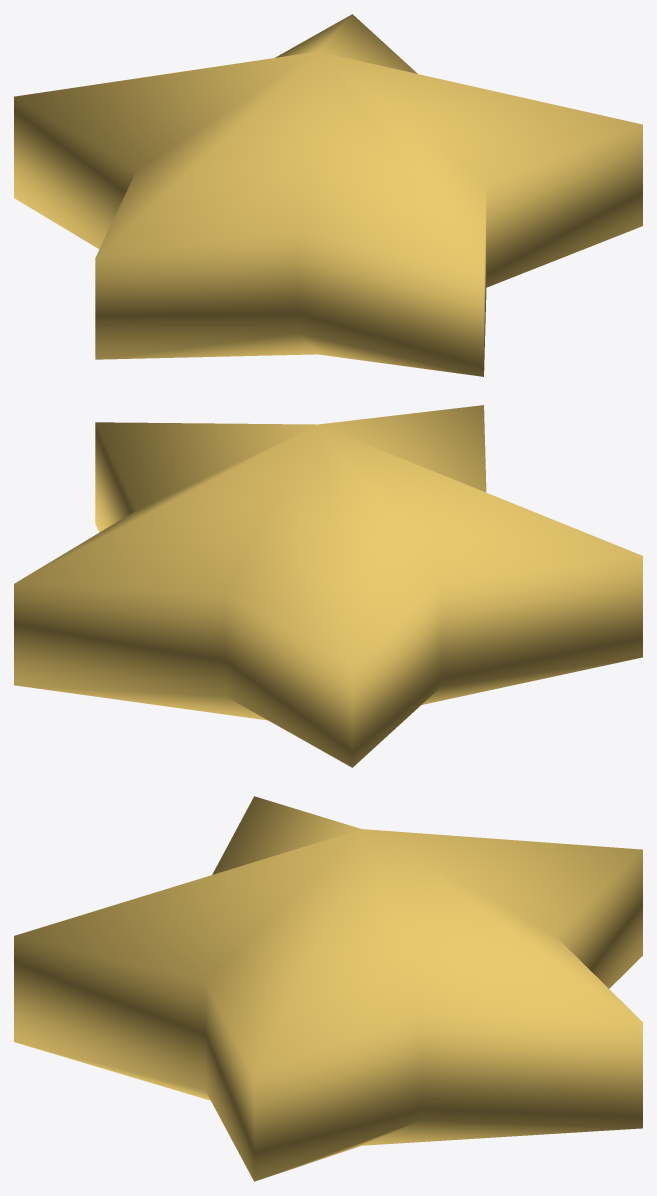
The model's file is star.glb.
3 views of the same model, one above another, from view 1: azimuth 30°, elevation 25°; view 2: azimuth 150°, elevation 25°; view 3: azimuth 270°, elevation 25° (orthographic). The views are drawn at different scales.
Parts seen in each view (by area): view 1: Cylinder; view 2: Cylinder; view 3: Cylinder.
Part boxes in pixels (x1=…): Cylinder: x1=14, y1=14, x2=642, y2=376; Cylinder: x1=14, y1=405, x2=642, y2=767; Cylinder: x1=14, y1=796, x2=642, y2=1181.
Bounding box in the file's own units: 1.9 × 1.01 × 1.81.
